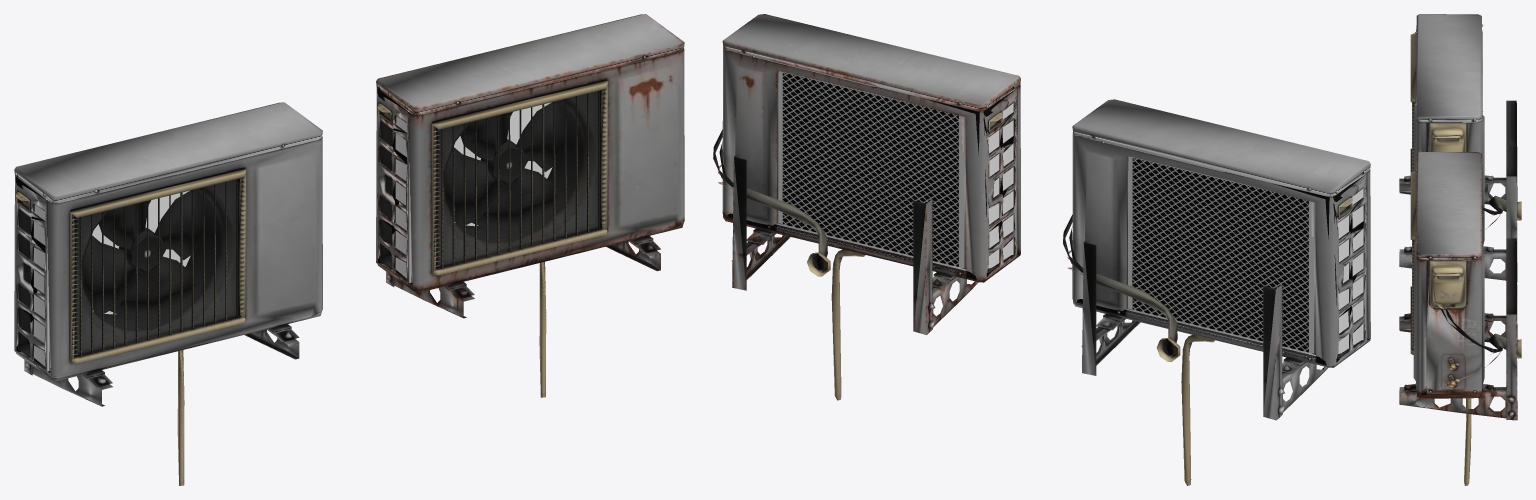
The model's file is aircon.glb.
3 renders of one model, left to right at view 1: azimuth 30°, elevation 25°; view 2: azimuth 150°, elevation 25°; view 3: azimuth 270°, elevation 25°, orthographic. The views are drawn at different scales.
Parts seen in each view (by area): view 1: exterior_aircon_unit_rusted, exterior_aircon_unit; view 2: exterior_aircon_unit, exterior_aircon_unit_rusted; view 3: exterior_aircon_unit_rusted, exterior_aircon_unit.
Part boxes in pixels (box(x1,y1,x2,y2)): exterior_aircon_unit_rusted: box(376, 14, 684, 397); exterior_aircon_unit: box(14, 102, 322, 485); exterior_aircon_unit: box(1063, 99, 1370, 485); exterior_aircon_unit_rusted: box(713, 14, 1020, 400); exterior_aircon_unit_rusted: box(1399, 151, 1521, 485); exterior_aircon_unit: box(1399, 14, 1521, 282).
Bounding box in the file's own units: 1.8 × 0.9279 × 0.3742.
Materials: 4 (4 with a texture image).
